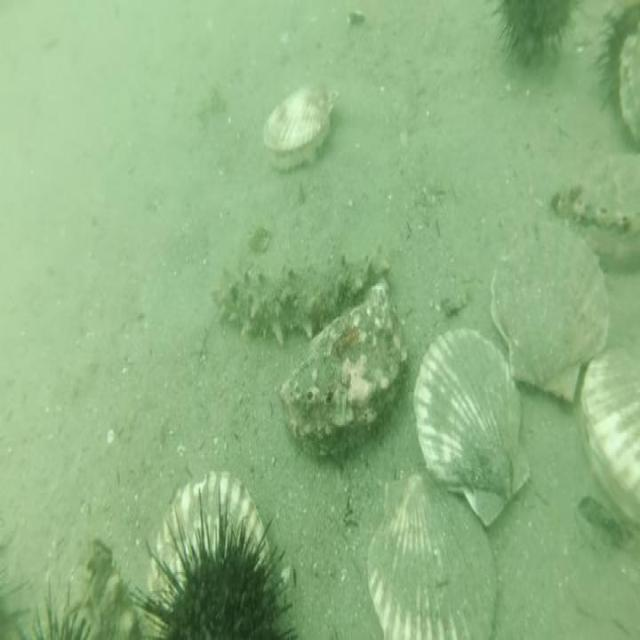echinus: (128, 490, 301, 640), (490, 0, 592, 73), (594, 0, 640, 137), (13, 581, 99, 640)
holothurian: (209, 242, 392, 344)
scallop: (411, 316, 535, 531), (363, 463, 502, 640), (488, 212, 612, 403), (145, 463, 273, 635), (578, 339, 640, 532), (260, 74, 340, 172), (617, 28, 640, 156)
